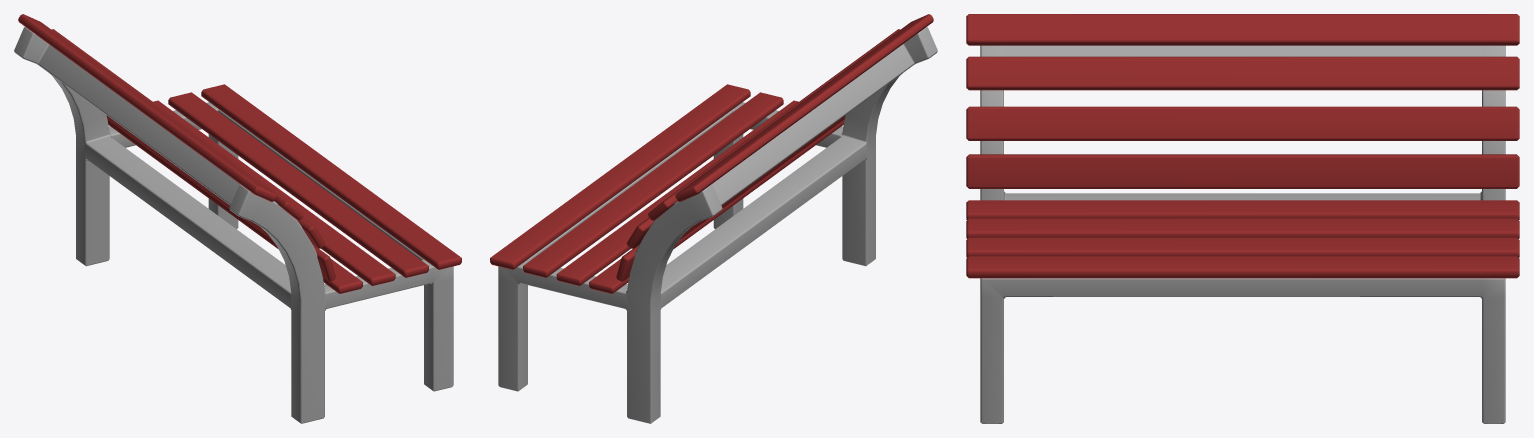
File: sm_banc_LP.fbx
3 views of the same model, side by side, from view 1: azimuth 30°, elevation 25°; view 2: azimuth 150°, elevation 25°; view 3: azimuth 270°, elevation 25° (orthographic). The views are drawn at different scales.
Visible parts, largest first — view 1: banc_LP; view 2: banc_LP; view 3: banc_LP.
Boxes of the visible parts, x1,y1,x2,y2 form: banc_LP: [14, 14, 461, 423]; banc_LP: [490, 14, 937, 423]; banc_LP: [966, 14, 1519, 423].
Bounding box in the file's own units: 92.5 × 103 × 174.
